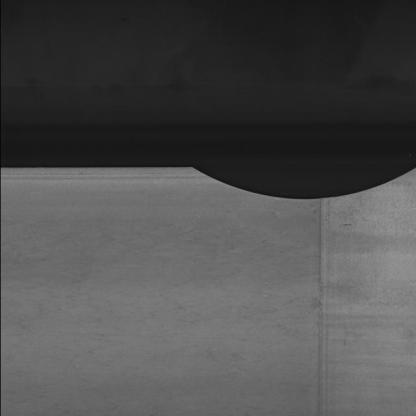crescent_gap: (168, 145, 416, 204)
welding_line: (302, 186, 345, 415)
